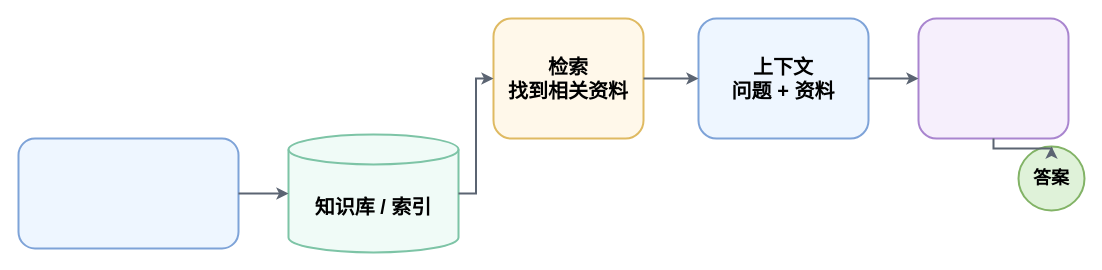
This 1102x270 diagram has some shape labels left out. Here are the shapes that lost their labels. From the top down, the centre of each, then its label:
point (993, 78): LLM 基于资料作答
point (128, 193): 外部知识 文档 / 网页 / FAQ / 数据库
